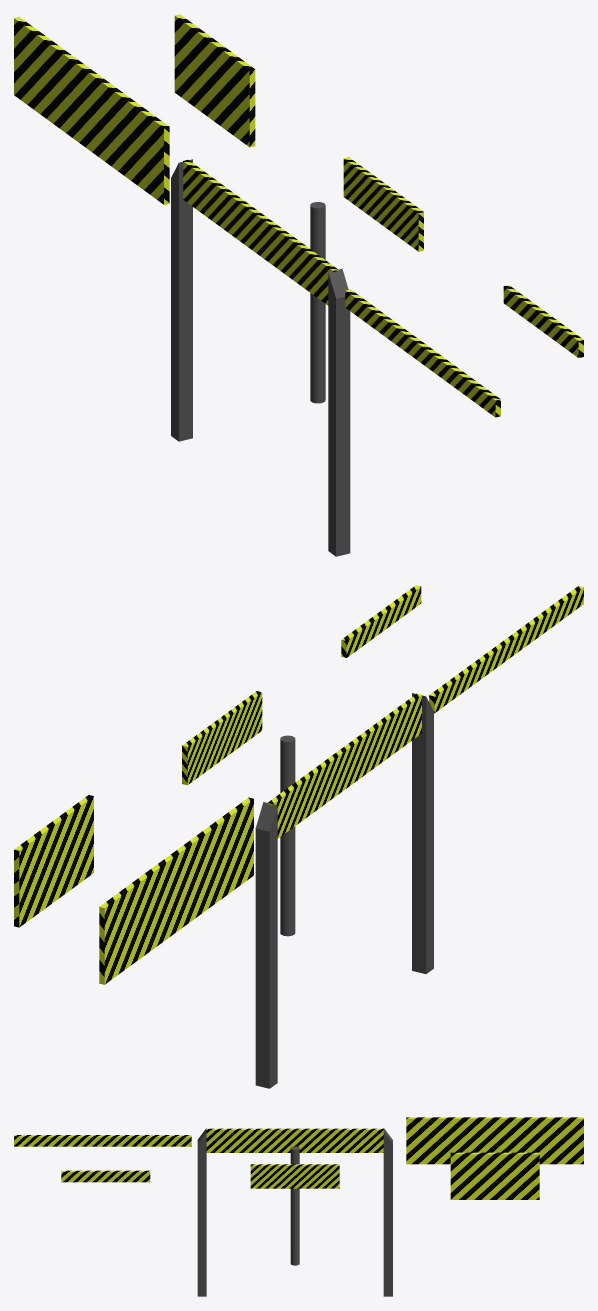
File: sign_barricade.fbx
3 renders of one model, top to bottom at view 1: azimuth 30°, elevation 25°; view 2: azimuth 150°, elevation 25°; view 3: azimuth 270°, elevation 25°, orthographic. The views are drawn at different scales.
Parts seen in each view (by area): view 1: tam büyük, direkler, Yarım büyük, tam orta, yarım orta, tam küçük, döner direk, yarım küçük; view 2: tam büyük, direkler, Yarım büyük, tam orta, yarım orta, tam küçük, döner direk, yarım küçük; view 3: tam büyük, tam orta, Yarım büyük, direkler, yarım orta, tam küçük, yarım küçük, döner direk.
Part boxes in pixels (x1=…): tam büyük: x1=14, y1=17, x2=169, y2=204; direkler: x1=171, y1=159, x2=350, y2=556; Yarım büyük: x1=174, y1=14, x2=255, y2=147; tam orta: x1=183, y1=159, x2=338, y2=305; yarım orta: x1=343, y1=157, x2=423, y2=251; tam küçük: x1=345, y1=289, x2=500, y2=417; döner direk: x1=310, y1=202, x2=325, y2=403; yarım küçük: x1=503, y1=285, x2=583, y2=357; tam büyük: x1=99, y1=797, x2=253, y2=984; direkler: x1=255, y1=693, x2=433, y2=1088; Yarım büyük: x1=14, y1=795, x2=93, y2=927; tam orta: x1=267, y1=693, x2=422, y2=838; yarım orta: x1=182, y1=691, x2=262, y2=785; tam küçük: x1=429, y1=586, x2=583, y2=713; döner direk: x1=280, y1=735, x2=295, y2=936; yarım küçük: x1=341, y1=585, x2=421, y2=657; tam büyük: x1=406, y1=1117, x2=583, y2=1164; tam orta: x1=206, y1=1128, x2=383, y2=1152; Yarım büyük: x1=450, y1=1152, x2=539, y2=1199; direkler: x1=197, y1=1128, x2=392, y2=1296; yarım orta: x1=250, y1=1164, x2=339, y2=1188; tam küçük: x1=14, y1=1135, x2=191, y2=1146; yarım küçük: x1=61, y1=1170, x2=150, y2=1182; döner direk: x1=290, y1=1146, x2=299, y2=1265.
Bounding box in the file's own units: 2.06 × 4.41 × 12.9.
Materials: 2 (1 with a texture image).
